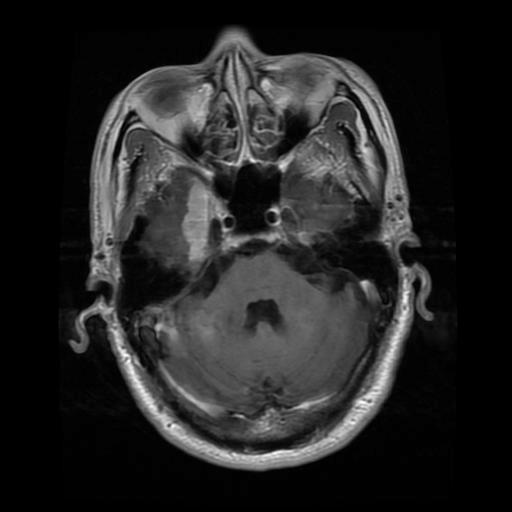Tumour-Pituitary: (175, 186, 246, 278)
